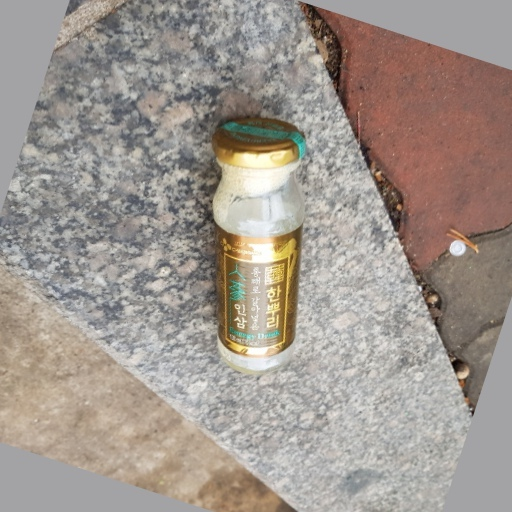Glass_4: (208, 116, 311, 373)
